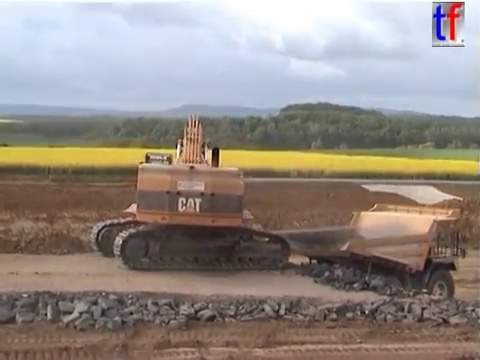excavator: (87, 110, 293, 273)
truck: (266, 201, 470, 316)
